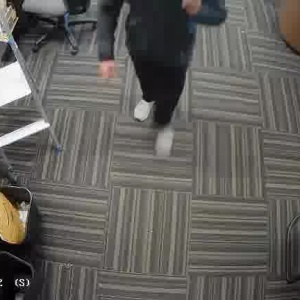person: (107, 0, 215, 159)
